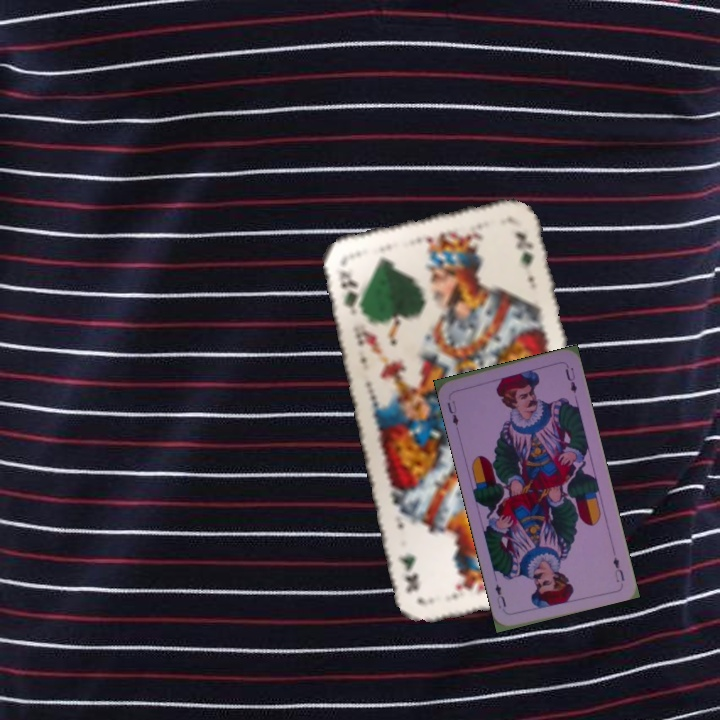EU: (609, 553, 627, 585), (443, 397, 461, 428)
GK: (335, 266, 366, 317)
